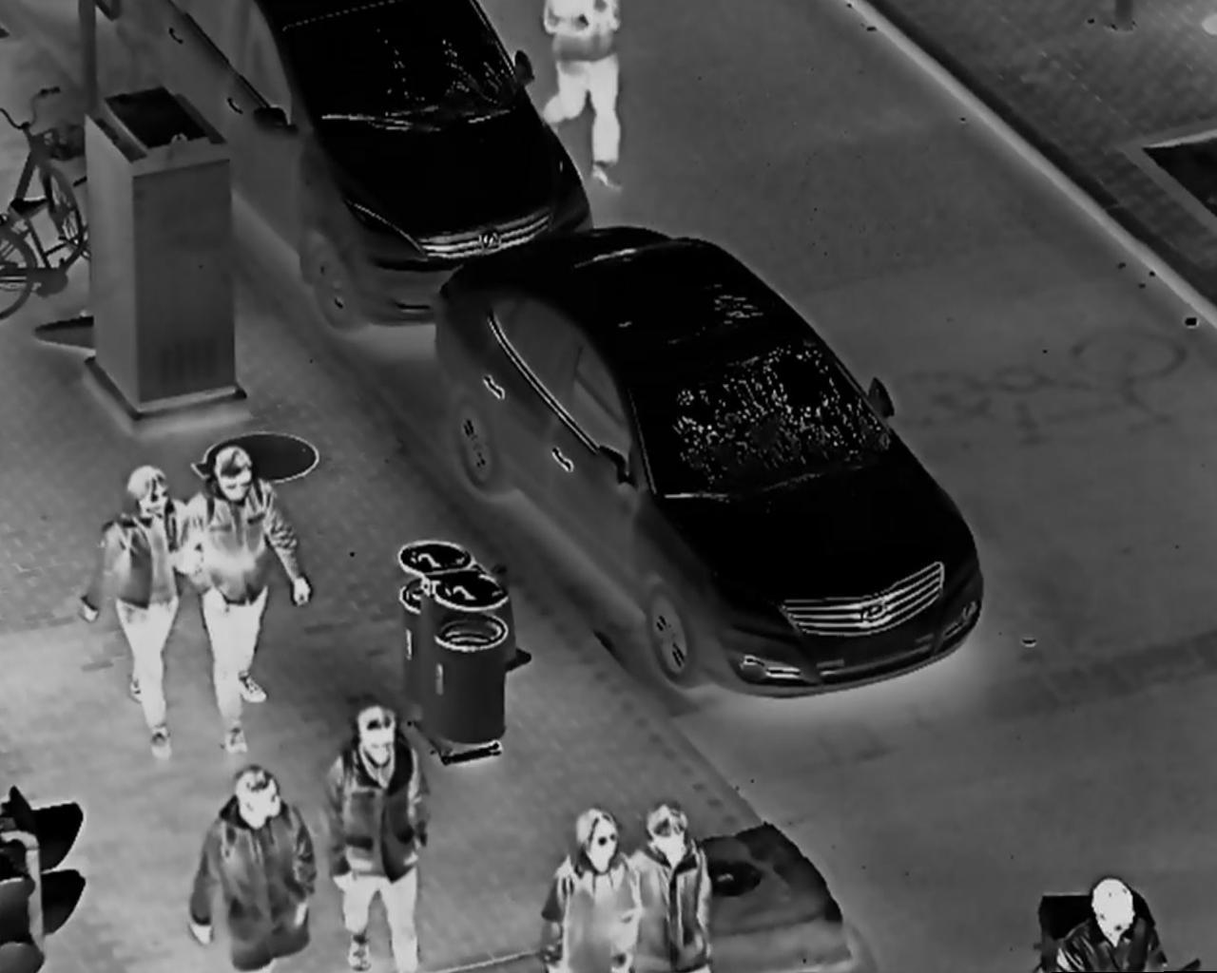person: (177, 439, 315, 754), (79, 464, 201, 764), (319, 703, 437, 973), (185, 763, 321, 973), (540, 807, 644, 973), (626, 800, 723, 973), (1059, 875, 1170, 973)
